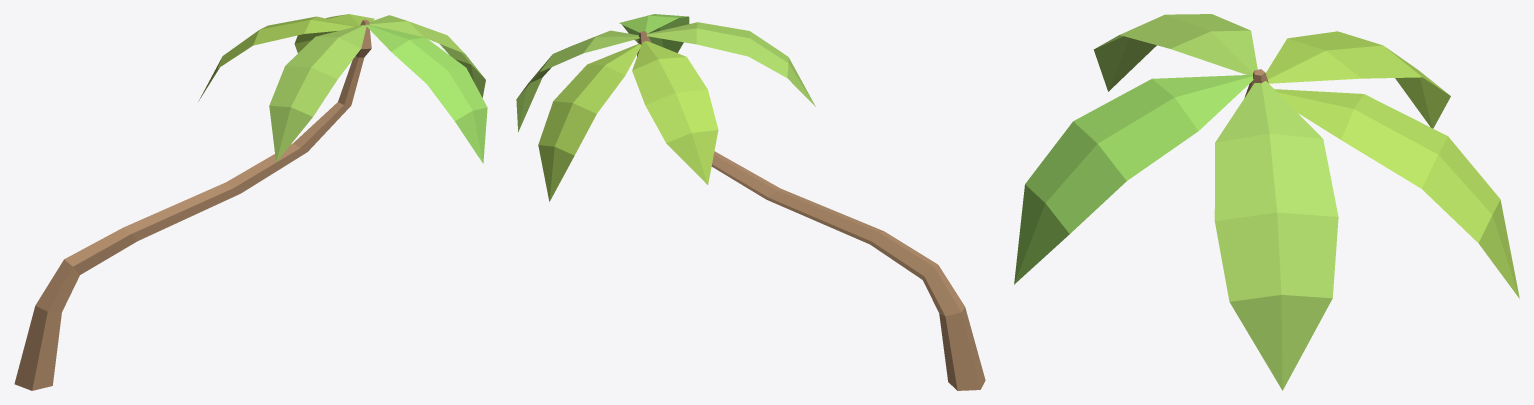
Rendered from Palm_Tree_OneSided_s_05_LOD.fbx.
3 renders of one model, left to right at view 1: azimuth 30°, elevation 25°; view 2: azimuth 150°, elevation 25°; view 3: azimuth 270°, elevation 25°, orthographic. The views are drawn at different scales.
Parts seen in each view (by area): view 1: Palm_Tree_OneSided_s_05_LOD0; view 2: Palm_Tree_OneSided_s_05_LOD0; view 3: Palm_Tree_OneSided_s_05_LOD0.
Part boxes in pixels (x1,y1,x2,y2): Palm_Tree_OneSided_s_05_LOD0: [14, 14, 487, 390]; Palm_Tree_OneSided_s_05_LOD0: [516, 14, 985, 390]; Palm_Tree_OneSided_s_05_LOD0: [1014, 14, 1519, 390].
Size of what is drawn, in the model's own units: 447 by 258 by 244.
